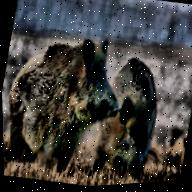boar: (1, 14, 133, 190), (89, 53, 184, 186)
